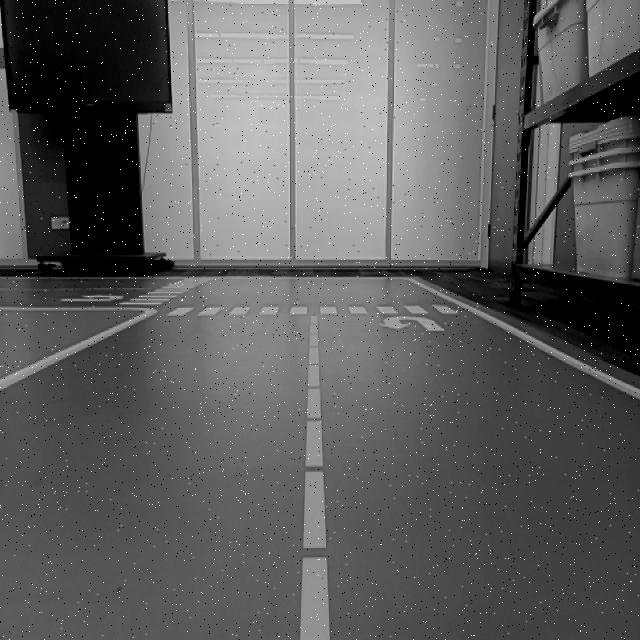left_lane: (300, 314, 332, 640)
right_lane: (412, 279, 640, 403), (0, 311, 152, 395)
